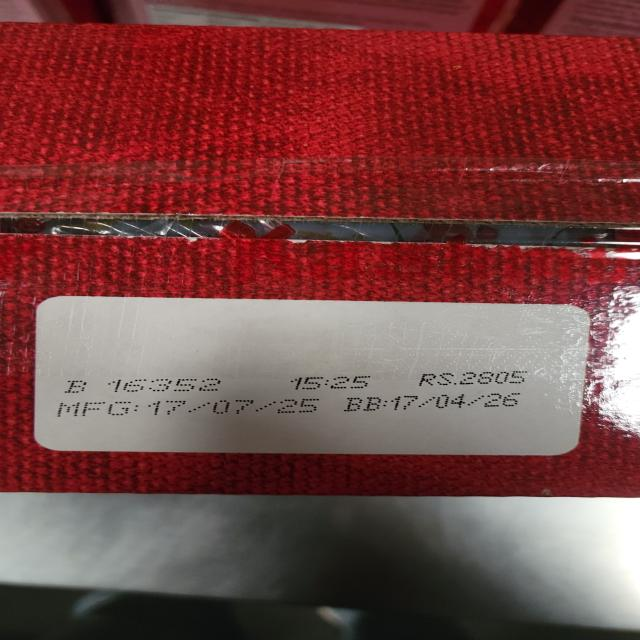BB: (345, 396, 533, 412)
Batch: (64, 378, 223, 393)
MFG: (55, 400, 326, 416)
RS: (419, 369, 532, 387)
TimeStamp: (288, 375, 374, 391)
